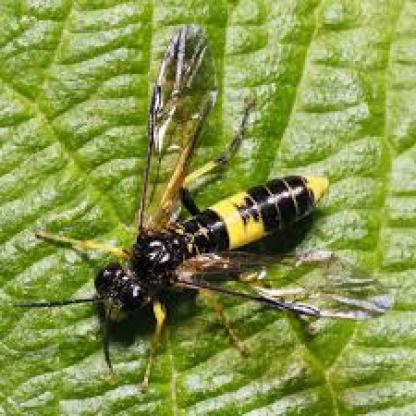sawfly: (10, 25, 400, 412)
